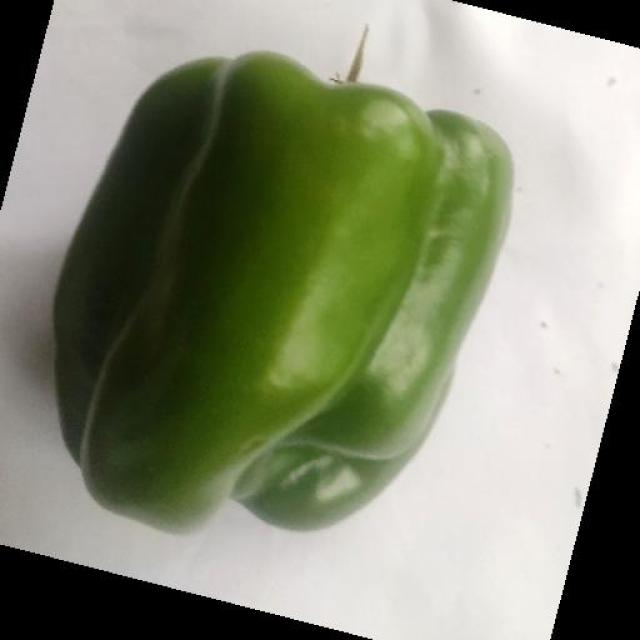Fresh_Capsicum: (134, 17, 482, 557)
